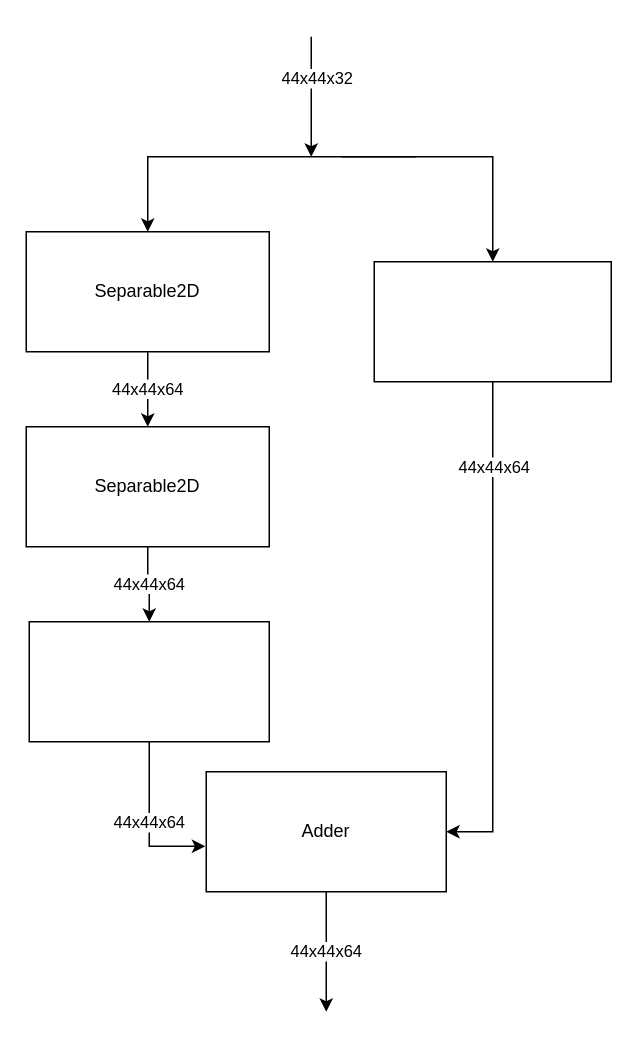
The diagram is 638 pixels wide and 1050 high, and some of its shapes have lost their labels. Here are the shapes that lost their labels. From the top down, the box of each, then its label:
(373, 260, 611, 382): Convo2D kernel 1x1, stride = 1
(28, 620, 269, 742): Max Pooilng kernel 3x3, stride = 1, padding = 1
